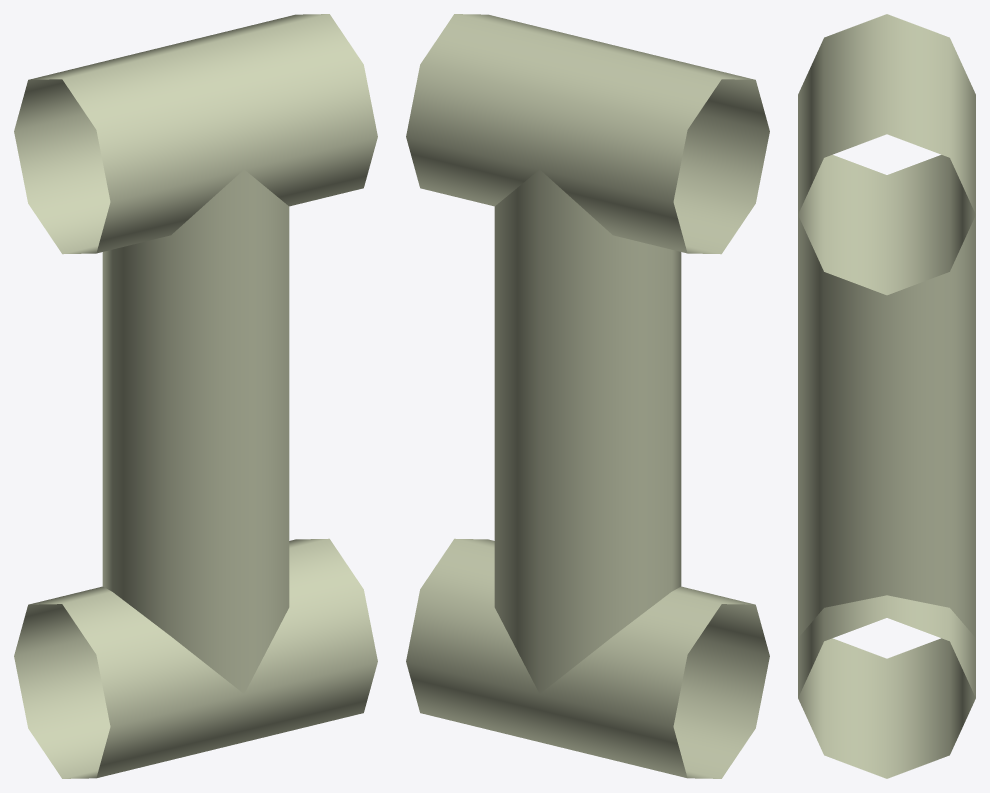
The model's file is Eridani_Antenna_4_Stem.obj.
3 views of the same model, side by side, from view 1: azimuth 30°, elevation 25°; view 2: azimuth 150°, elevation 25°; view 3: azimuth 270°, elevation 25° (orthographic). The views are drawn at different scales.
Visible parts, largest first — view 1: Eridani_Antenna_4_Stem; view 2: Eridani_Antenna_4_Stem; view 3: Eridani_Antenna_4_Stem.
Part boxes in pixels (bbox=[...]): Eridani_Antenna_4_Stem: bbox=[14, 14, 377, 778]; Eridani_Antenna_4_Stem: bbox=[406, 14, 769, 778]; Eridani_Antenna_4_Stem: bbox=[798, 14, 975, 778].
Size of the model in its own units: 0.1 by 0.25 by 0.0625.
